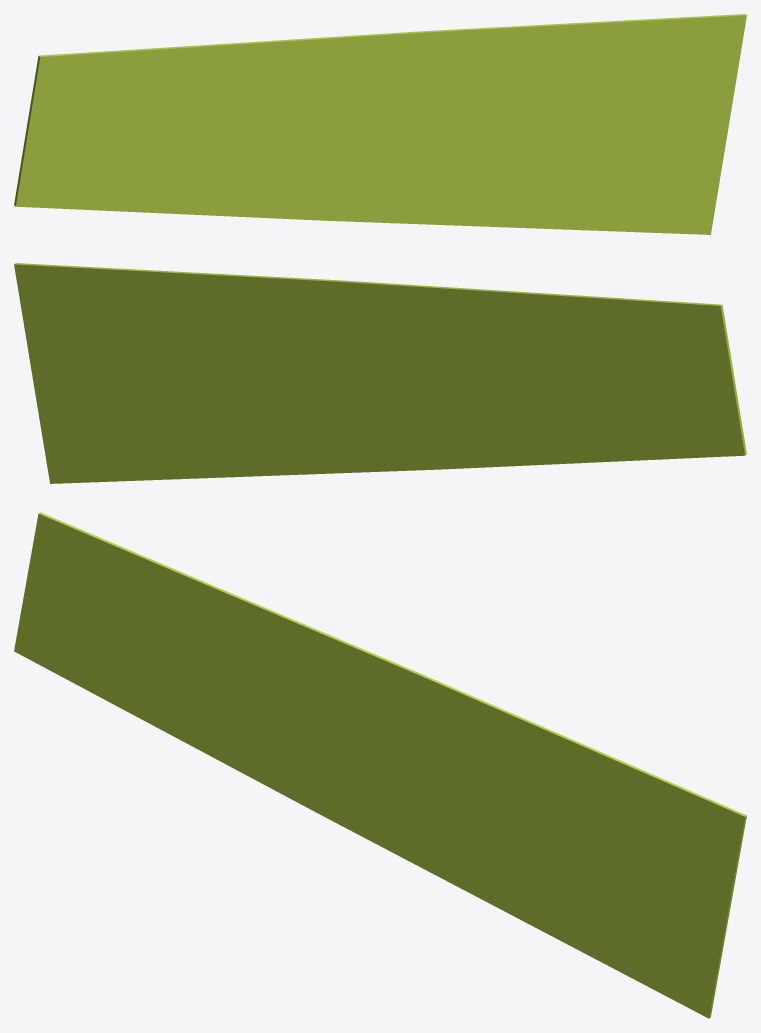
The picture shows the model from 3 angles, top to bottom: view 1: azimuth 30°, elevation 25°; view 2: azimuth 150°, elevation 25°; view 3: azimuth 330°, elevation 25°; orthographic projection.
Parts seen in each view (by area): view 1: osm-way27917482-F-1; view 2: osm-way27917482-F-1; view 3: osm-way27917482-F-1.
Part boxes in pixels (x1=…): osm-way27917482-F-1: x1=14, y1=14, x2=746, y2=234; osm-way27917482-F-1: x1=14, y1=263, x2=746, y2=483; osm-way27917482-F-1: x1=14, y1=512, x2=746, y2=1018.
Size of the model in its own units: 33.51 by 14.96 by 0.15.
